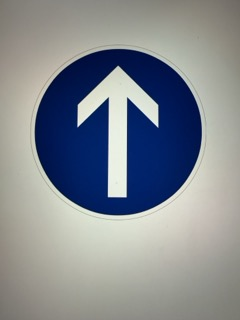GO FORWARD: (30, 42, 208, 224)
